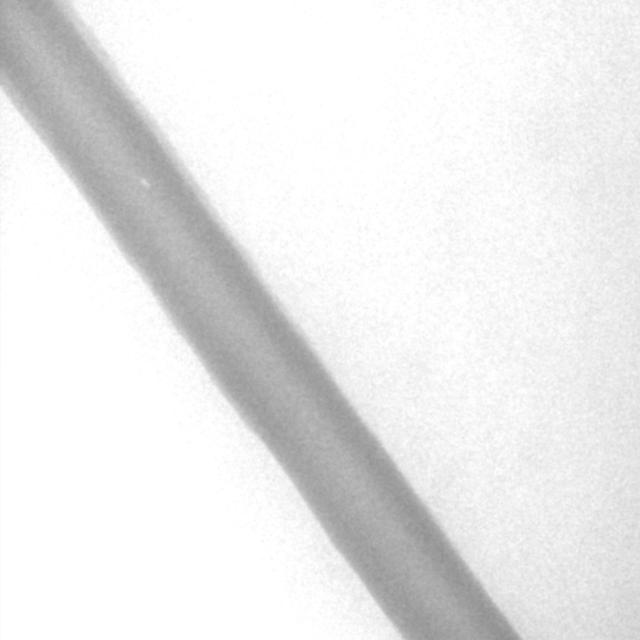air-hole: (140, 175, 148, 188)
